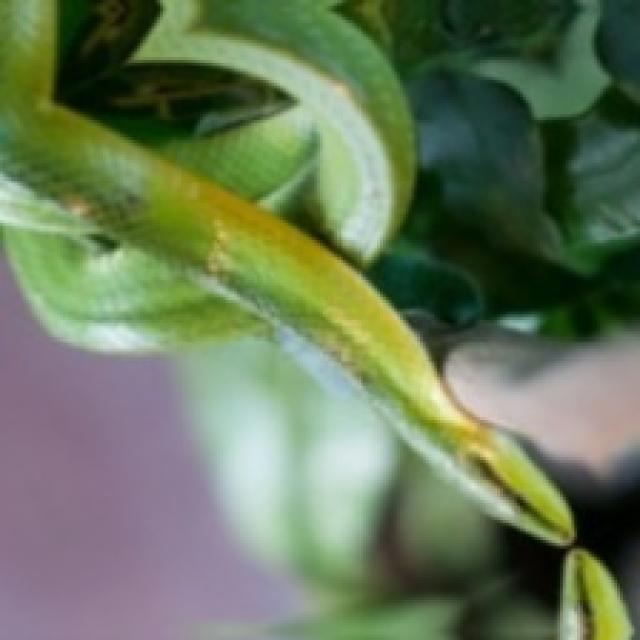red-tailed green ratsnake: (0, 0, 571, 543), (558, 548, 631, 639)
